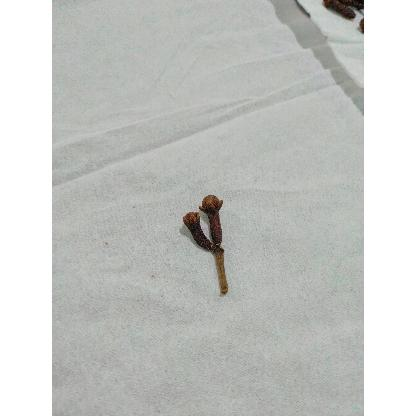buruk: (199, 195, 223, 245), (183, 211, 213, 250)
